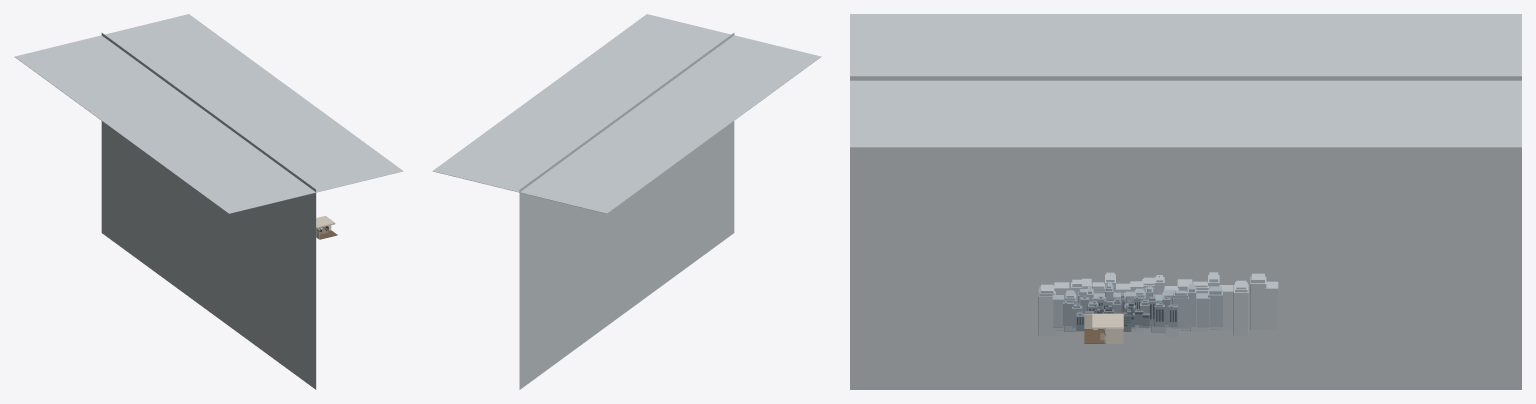
Rendered from office_room_v2.glb.
The picture shows the model from 3 angles, left to right: view 1: azimuth 30°, elevation 25°; view 2: azimuth 150°, elevation 25°; view 3: azimuth 270°, elevation 25°; orthographic projection. The views are drawn at different scales.
Parts seen in each view (by area): view 1: Sky_Card; view 2: Sky_Card; view 3: Sky_Card, City_Haze, City_Far, City_Mid, City_Near.
Part boxes in pixels (x1,y1,x2,y2): Sky_Card: (14,14,403,389); Sky_Card: (432,14,821,389); Sky_Card: (850,14,1521,389); City_Haze: (1038,272,1278,336); City_Far: (1052,281,1222,332); City_Mid: (1063,293,1177,327); City_Near: (1076,299,1149,331).
Size of the model in its own units: 65.41 by 68 by 132.
